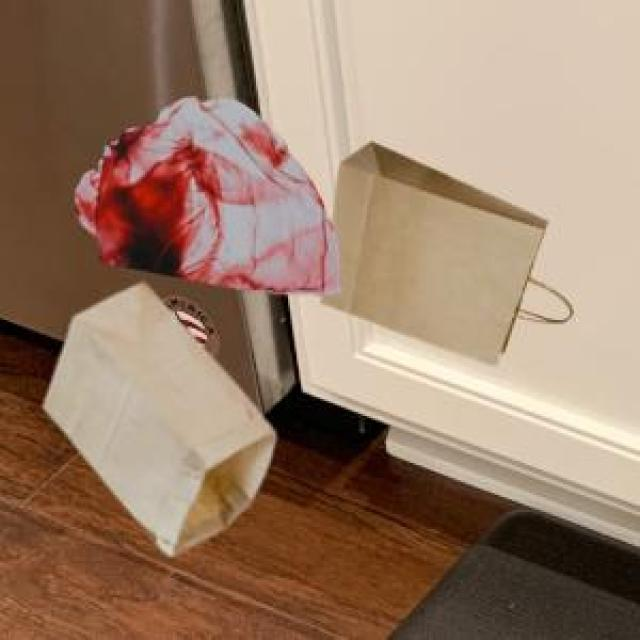paper: (41, 280, 271, 550), (318, 139, 544, 361)
